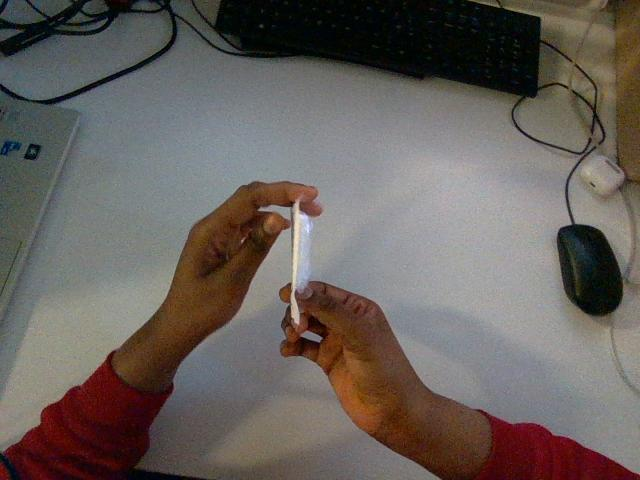gauze: (291, 200, 311, 325)
